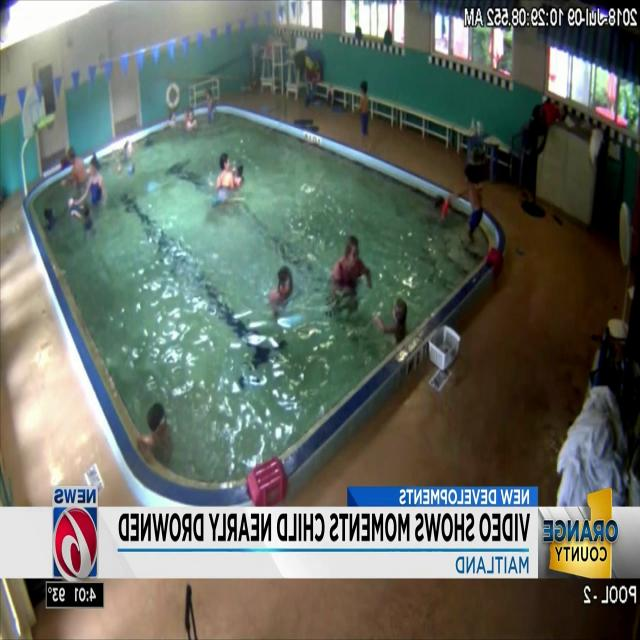adult: (327, 236, 373, 313), (268, 257, 297, 334), (81, 154, 104, 208), (66, 143, 90, 190), (216, 152, 234, 201), (119, 132, 134, 170), (185, 106, 197, 141)
child: (451, 166, 486, 251), (136, 401, 175, 468), (374, 298, 410, 354), (68, 200, 95, 250), (429, 194, 454, 239), (358, 79, 370, 151), (203, 86, 219, 130), (236, 162, 247, 192), (168, 104, 178, 132)
